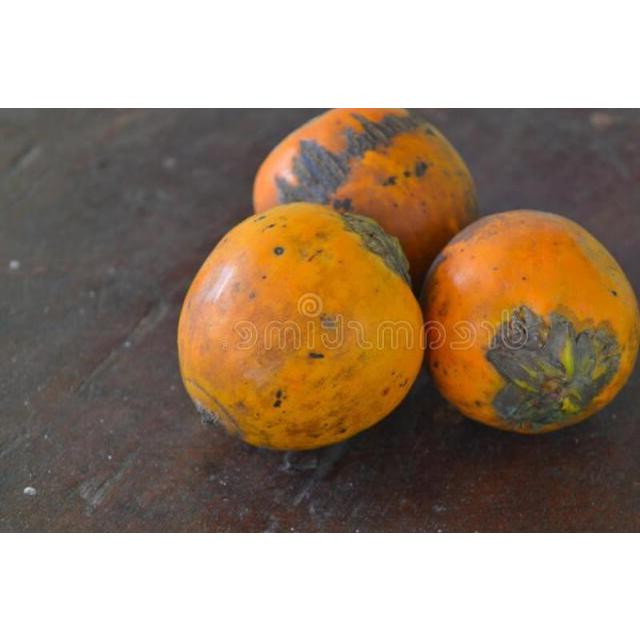good: (178, 202, 422, 448), (422, 209, 640, 433), (253, 107, 474, 289)
